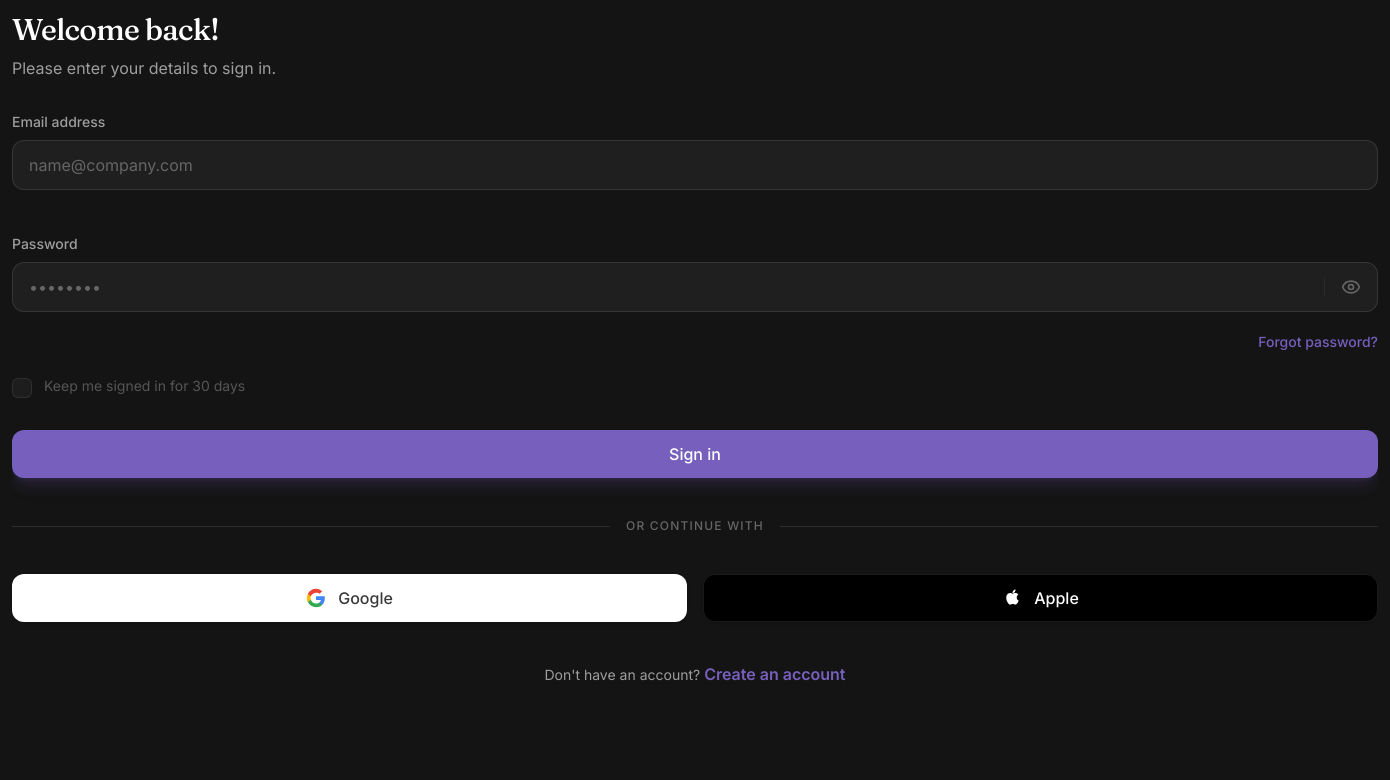
Test: LoginForm › clears the previous error message when a new submission starts
The image size is (1390, 780).
Type "u@e.com" into the field with placeholder "name@company.com" at (695, 165), box x1=13 y1=141 x2=1377 y2=189
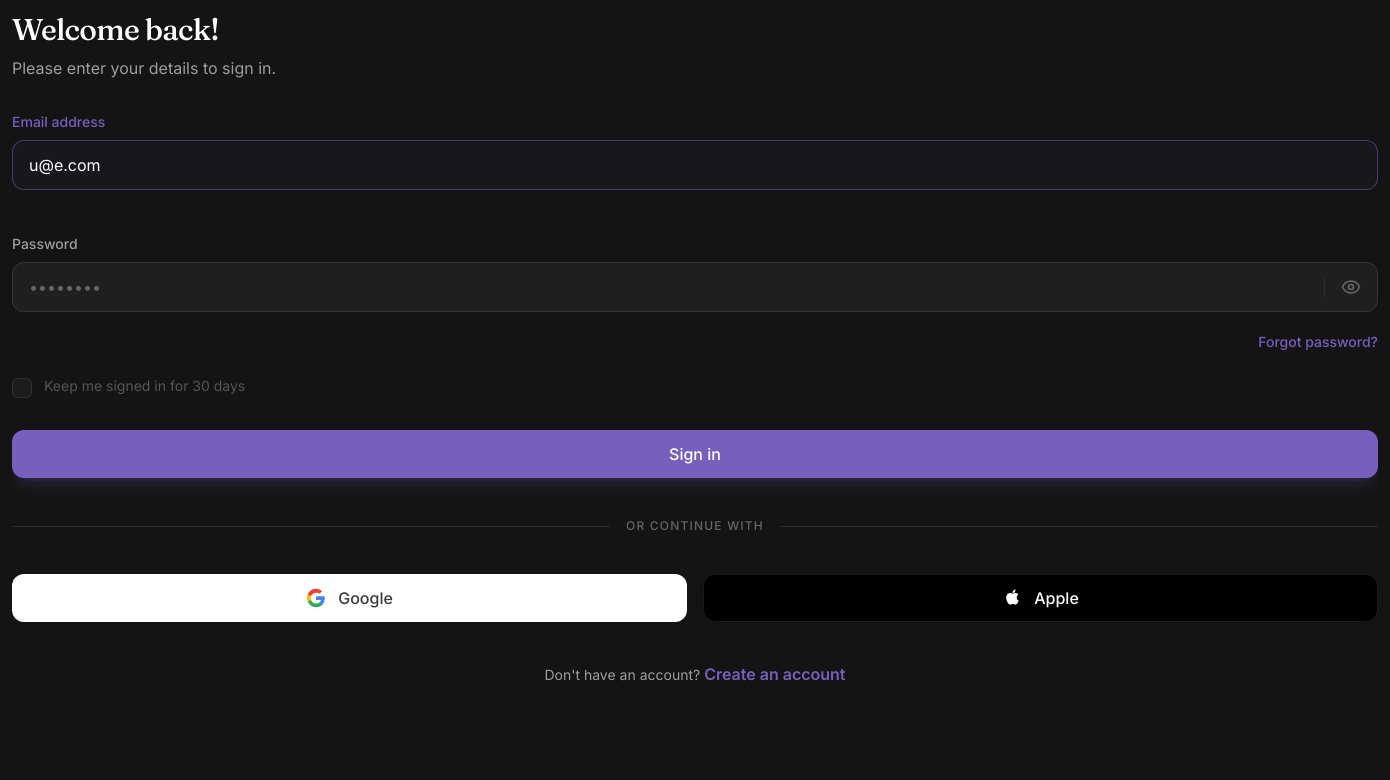
Type "password1" into the password field with placeholder "••••••••" at (668, 287), box x1=13 y1=263 x2=1324 y2=311
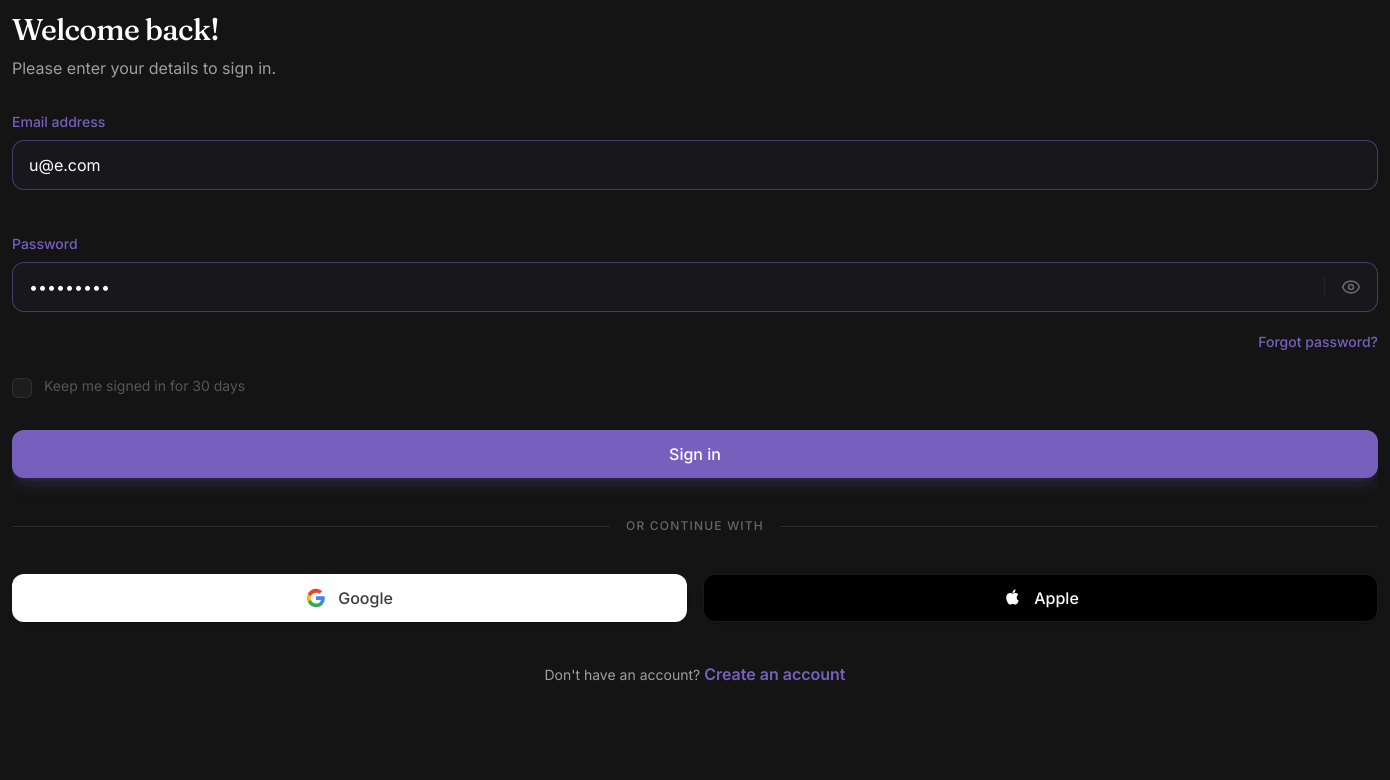
Click the button "Sign in" at (695, 454), box x1=12 y1=430 x2=1378 y2=478
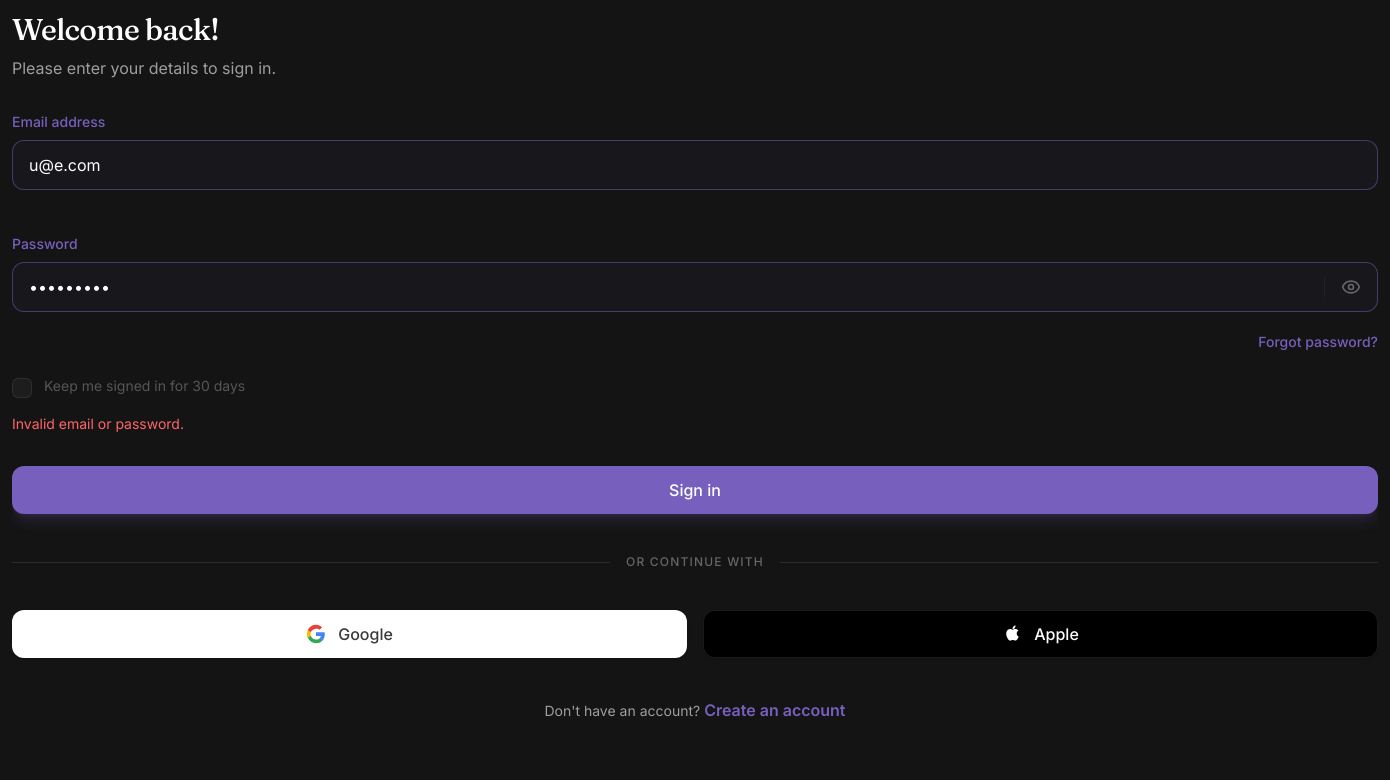
Now the text "Invalid email or password." is shown, box x1=12 y1=415 x2=184 y2=432
Click the button "Sign in" at (695, 490), box x1=12 y1=466 x2=1378 y2=514
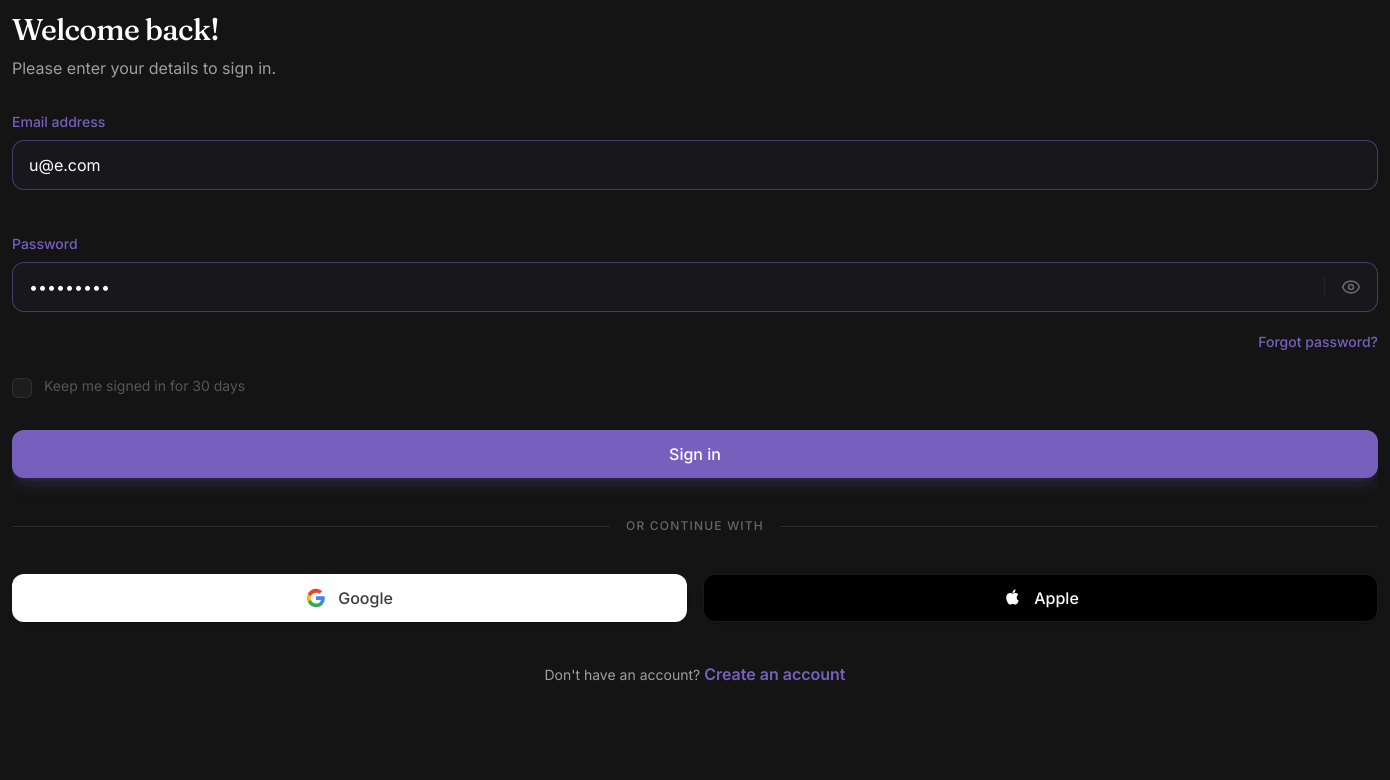
Now the text "Invalid email or password." is gone
